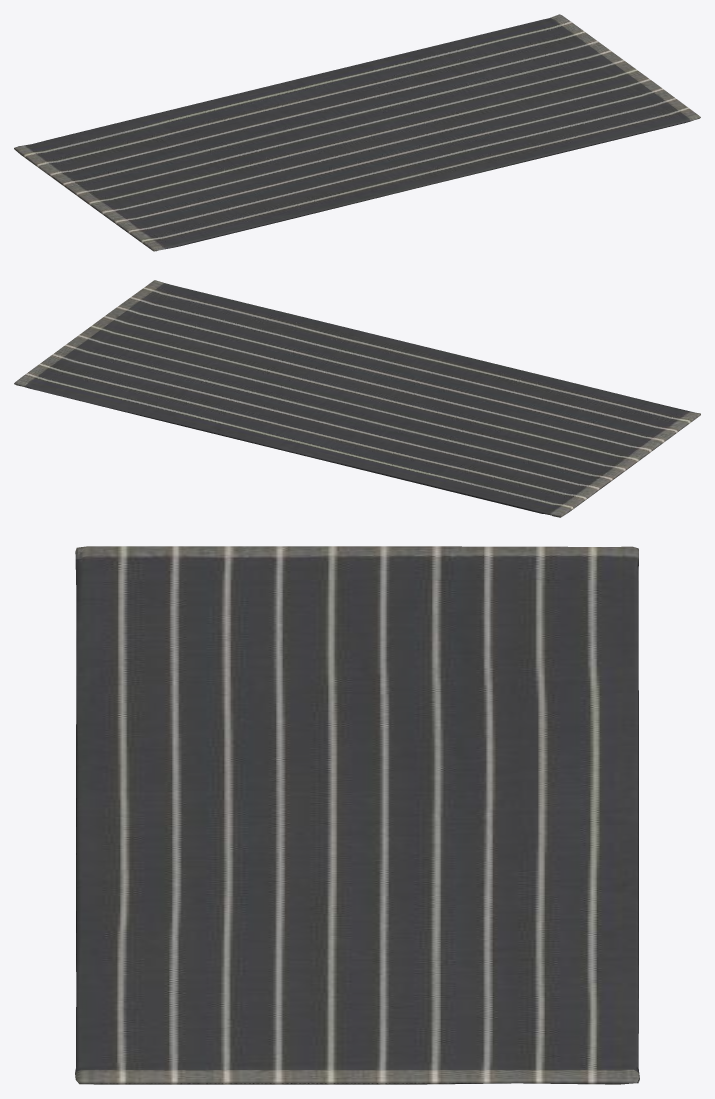
Rendered from 09 - RIDSTIG Rug, flatwoven - greyoff-white 80x180 cm.glb.
The picture shows the model from 3 angles, top to bottom: view 1: azimuth 30°, elevation 25°; view 2: azimuth 150°, elevation 25°; view 3: azimuth 270°, elevation 25°; orthographic projection. The views are drawn at different scales.
Visible parts, largest first — view 1: ASY_ART_20600968_S01_NV01; view 2: ASY_ART_20600968_S01_NV01; view 3: ASY_ART_20600968_S01_NV01.
Part boxes in pixels (x1,y1,x2,y2): ASY_ART_20600968_S01_NV01: [14, 14, 700, 251]; ASY_ART_20600968_S01_NV01: [14, 280, 700, 517]; ASY_ART_20600968_S01_NV01: [75, 546, 639, 1084].
Size of the model in its own units: 1.8 by 0.0108 by 0.8029.
Materials: 1 (1 with a texture image).
